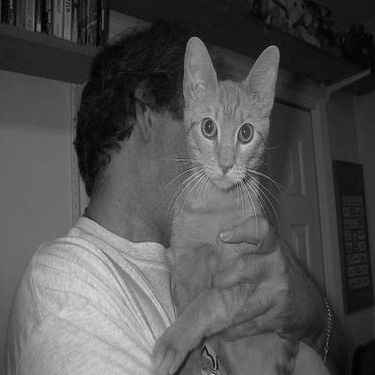cat: (146, 35, 300, 372)
